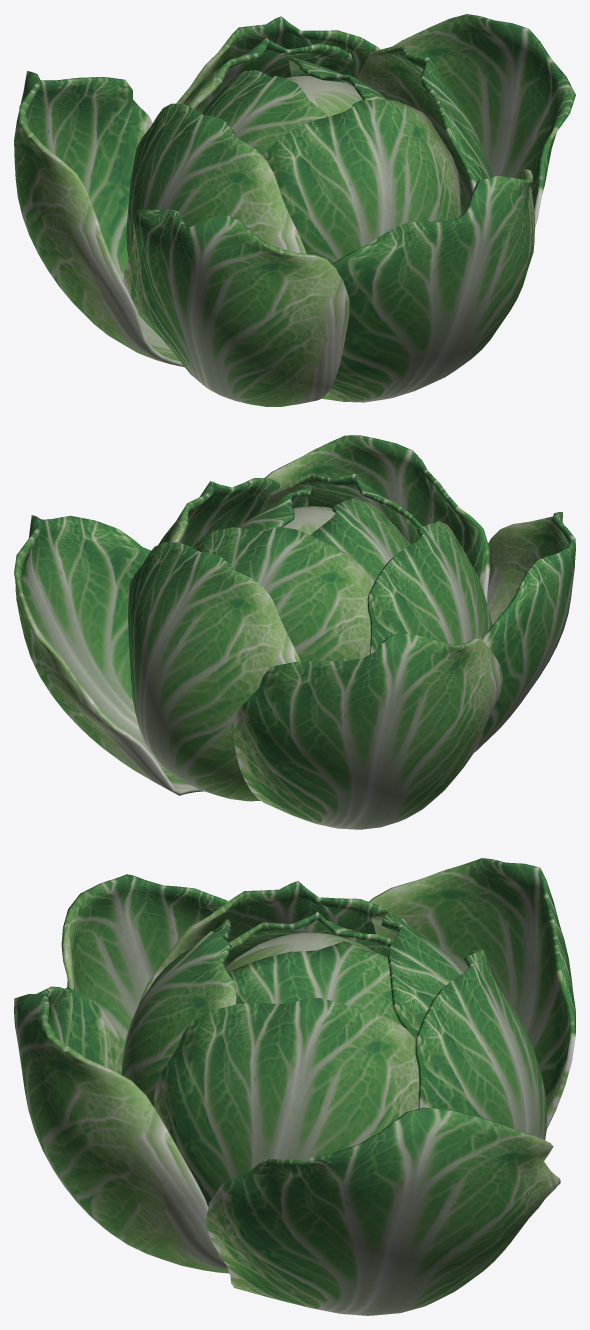
3 renders of one model, top to bottom at view 1: azimuth 30°, elevation 25°; view 2: azimuth 150°, elevation 25°; view 3: azimuth 270°, elevation 25°, orthographic. The views are drawn at different scales.
Parts seen in each view (by area): view 1: 球体; view 2: 球体; view 3: 球体.
Boxes of the visible parts, x1,y1,x2,y2 form: 球体: [14, 14, 575, 406]; 球体: [14, 435, 575, 829]; 球体: [14, 858, 575, 1315].
Size of the model in its own units: 90.84 by 56.08 by 81.83.
